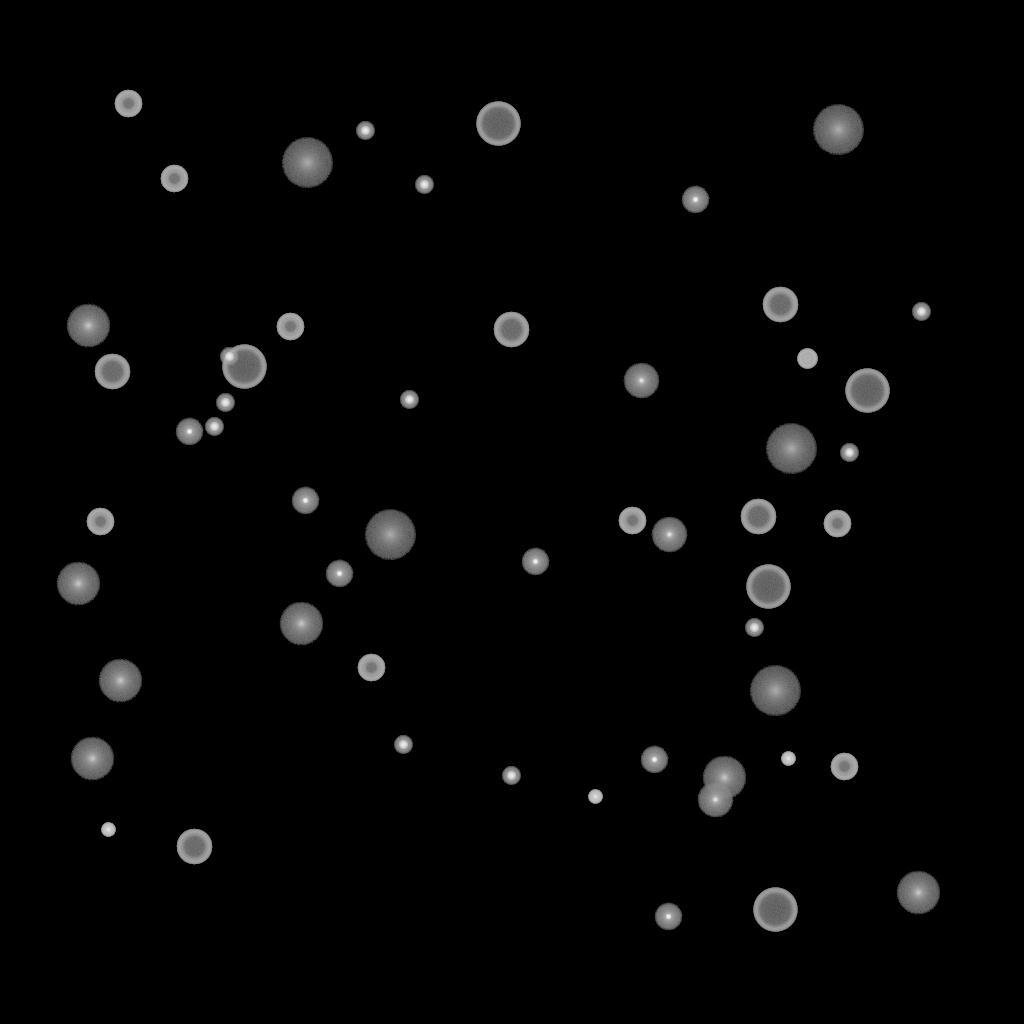depth:-10: (291, 487, 319, 515), (654, 903, 682, 931), (175, 418, 203, 446), (640, 746, 668, 774), (521, 548, 549, 576), (325, 560, 353, 588), (681, 186, 709, 214)
depth:-20: (400, 391, 418, 409), (205, 418, 223, 436), (394, 736, 412, 754), (840, 444, 858, 462), (745, 619, 763, 637), (216, 394, 234, 412), (356, 122, 374, 140), (502, 767, 520, 785), (415, 176, 433, 194), (220, 348, 238, 366), (912, 303, 930, 321)
depth:-30: (101, 823, 115, 837), (781, 752, 795, 766), (588, 790, 602, 804)
depth:-40: (797, 349, 817, 369)
depth:-50: (830, 753, 858, 781), (618, 507, 646, 535), (86, 508, 114, 536), (357, 654, 385, 682), (276, 313, 304, 341), (114, 90, 142, 118), (823, 510, 851, 538), (160, 165, 188, 193)
depth:-60: (493, 312, 529, 348), (94, 354, 130, 390), (740, 499, 776, 535), (176, 829, 212, 865), (762, 287, 798, 323)
depth:-70: (476, 102, 520, 146), (845, 369, 889, 413), (222, 345, 266, 389), (746, 565, 790, 609), (753, 888, 797, 932)
depth:0: (697, 782, 733, 818), (623, 363, 659, 399), (651, 517, 687, 553)
depth:10: (896, 871, 940, 915), (56, 562, 100, 606), (279, 602, 323, 646), (70, 737, 114, 781), (66, 304, 110, 348), (702, 756, 746, 800), (98, 659, 142, 703)
depth:20: (812, 105, 864, 155), (749, 666, 801, 716), (281, 138, 333, 188), (765, 424, 817, 474), (364, 510, 416, 560)
